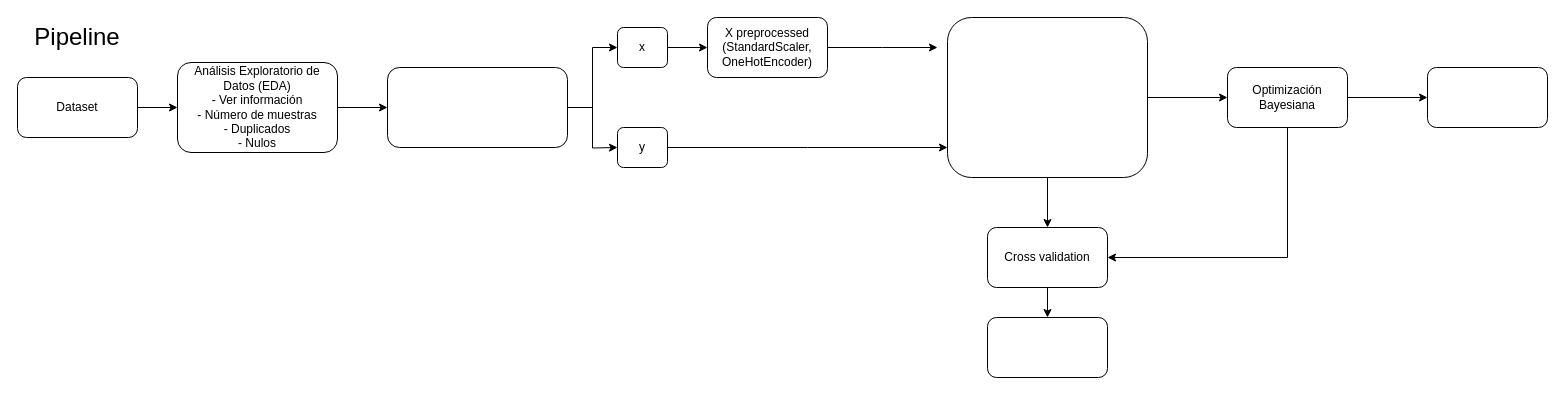
Some shapes in this 1565 by 395 pixel diagram are drawn without their labels. Each missing label, with the centre of its shape:
"F1" goes at (1047,347).
"Feature Engineering - Drop variables irrelevantes - Limpiar Datos" goes at (477,107).
"Modelo Optimizado" goes at (1487,97).
"Selección de Modelos: -Logistic Regression -SVM -MLP" goes at (1047,97).
